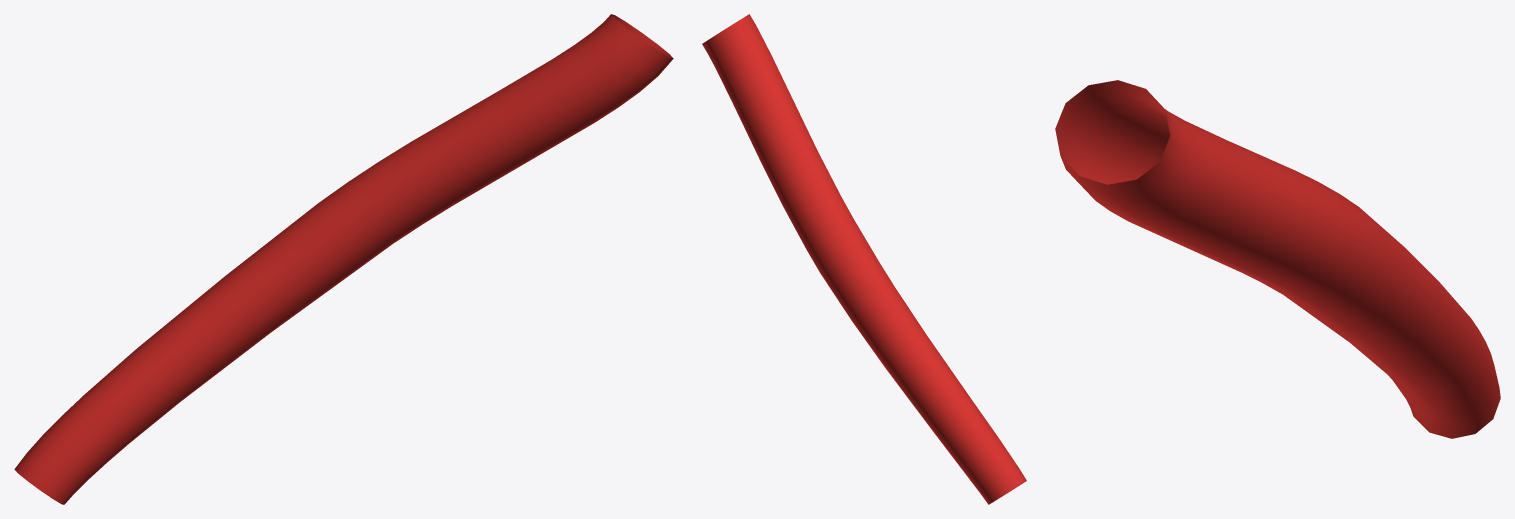
File: circulatorio-ileal-branch-of-ileocolic-artery.glb
3 views of the same model, side by side, from view 1: azimuth 30°, elevation 25°; view 2: azimuth 150°, elevation 25°; view 3: azimuth 270°, elevation 25° (orthographic). The views are drawn at different scales.
Visible parts, largest first — view 1: Ileal branch of ileocolic artery; view 2: Ileal branch of ileocolic artery; view 3: Ileal branch of ileocolic artery.
Boxes of the visible parts, x1,y1,x2,y2 form: Ileal branch of ileocolic artery: (14,14,673,504); Ileal branch of ileocolic artery: (702,14,1026,504); Ileal branch of ileocolic artery: (1055,80,1500,438).
Bounding box in the file's own units: 0.0241 × 0.0196 × 0.0116.
